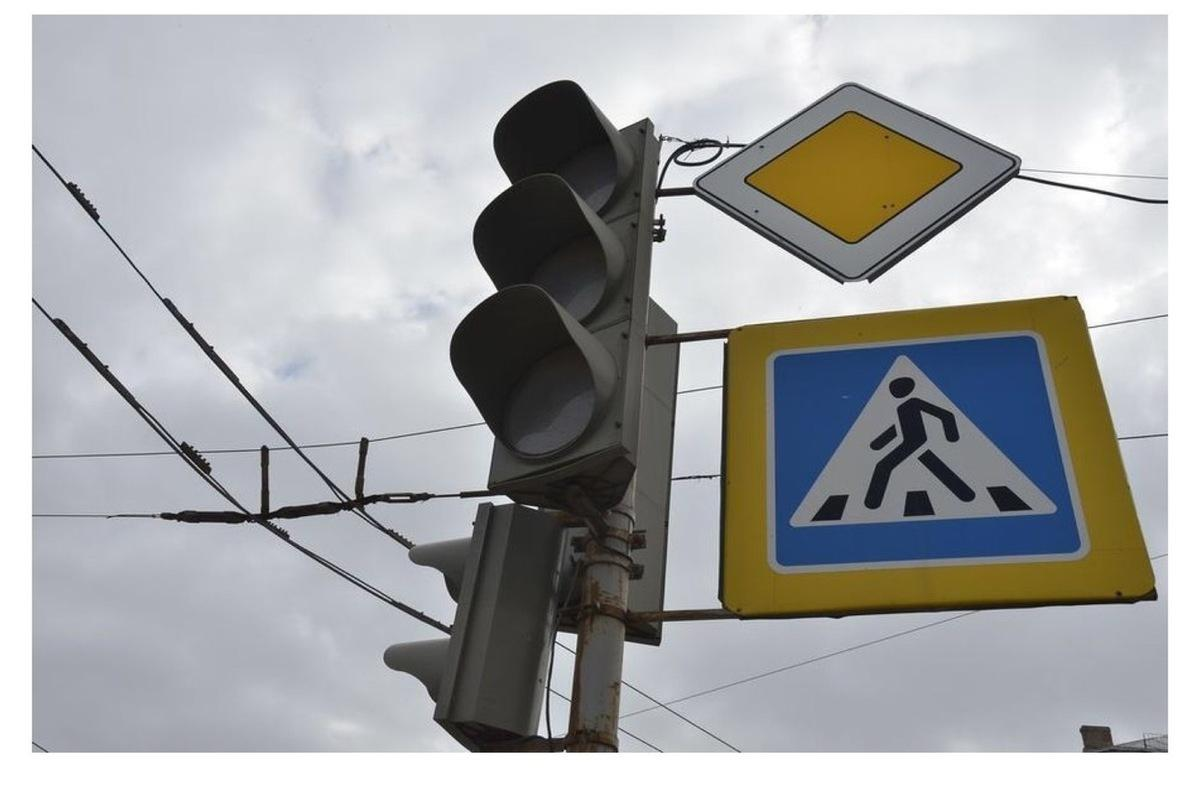off traffic light: (448, 79, 649, 489), (383, 502, 567, 737)
road_sign: (723, 297, 1157, 615), (695, 81, 1021, 282)
